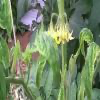Tomato leaf yellow virus: (34, 32, 60, 86), (82, 41, 99, 98)
